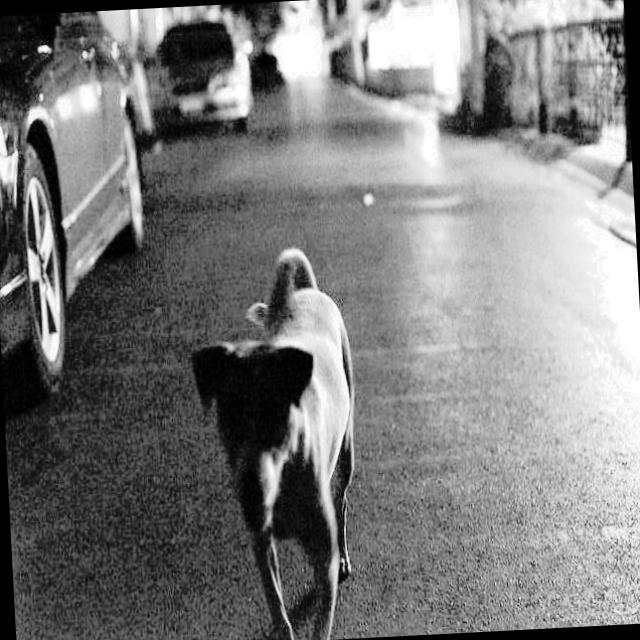Car: (0, 21, 167, 384), (107, 10, 272, 152)
Dog: (170, 210, 401, 640)
